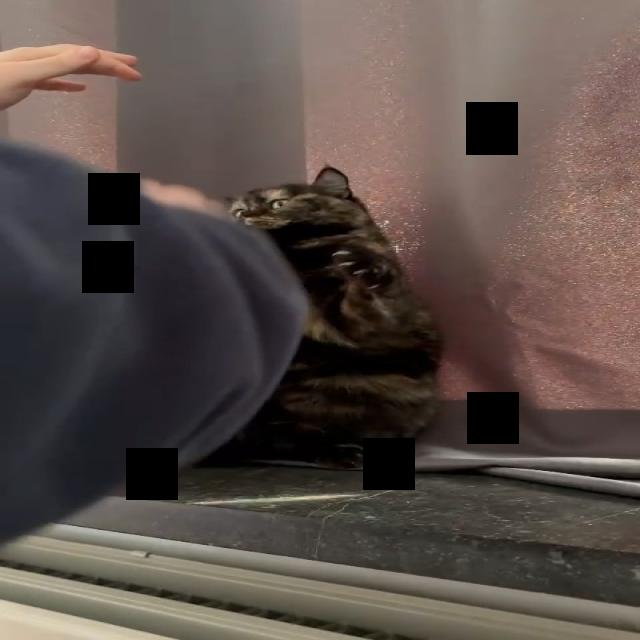authorized: (217, 164, 444, 468)
